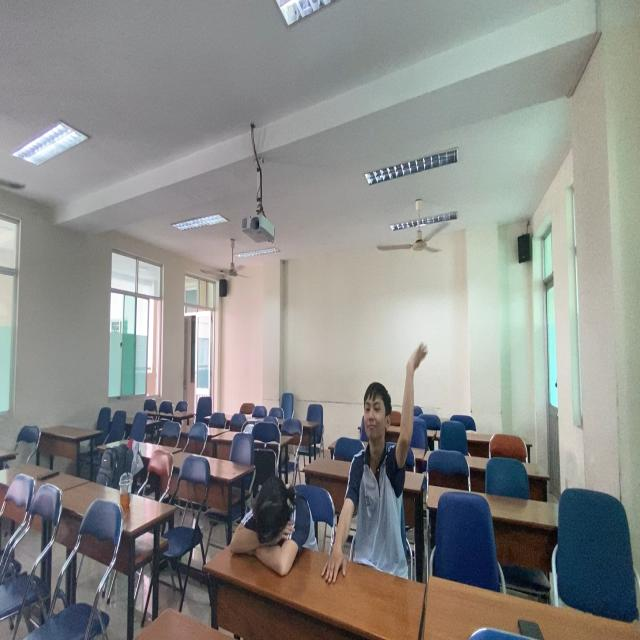raise_hand: (334, 332, 428, 578)
sleep: (228, 474, 316, 573)
